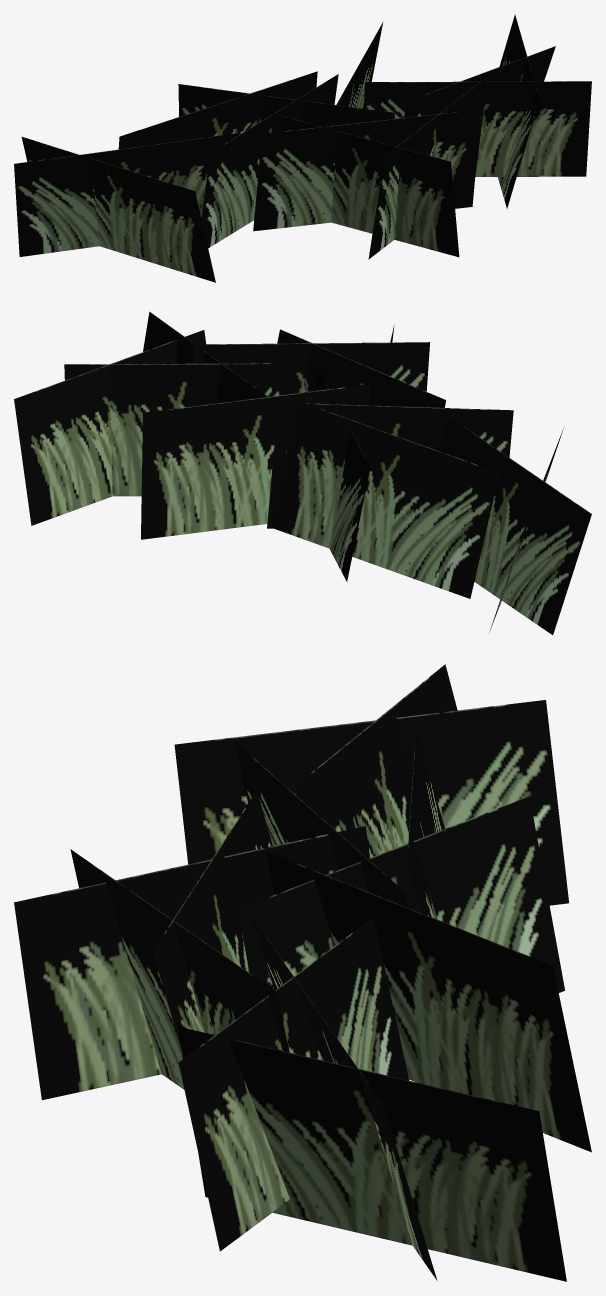
Rendered from Grass.fbx.
3 renders of one model, top to bottom at view 1: azimuth 30°, elevation 25°; view 2: azimuth 150°, elevation 25°; view 3: azimuth 270°, elevation 25°, orthographic. The views are drawn at different scales.
Visible parts, largest first — view 1: Plane; view 2: Plane; view 3: Plane.
Boxes of the visible parts, x1,y1,x2,y2 form: Plane: [14, 14, 591, 282]; Plane: [14, 311, 591, 634]; Plane: [14, 664, 591, 1281].
Bounding box in the file's own units: 445 × 112 × 242.
